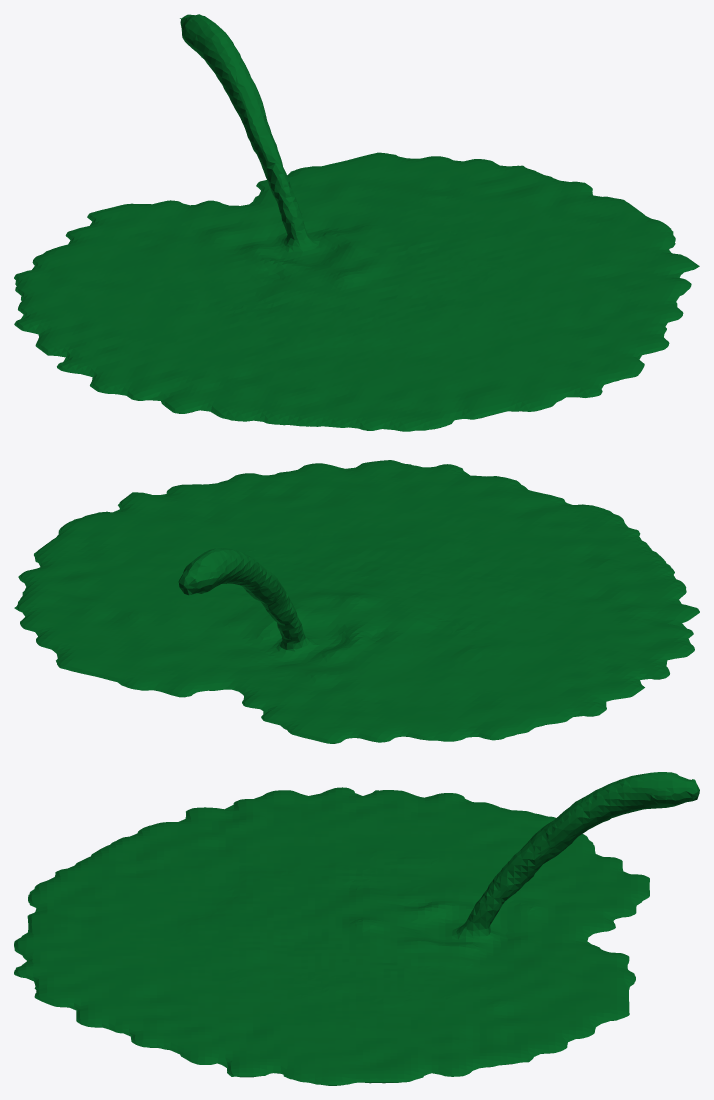
Rendered from fluid_39.fbx.
3 views of the same model, one above another, from view 1: azimuth 30°, elevation 25°; view 2: azimuth 150°, elevation 25°; view 3: azimuth 270°, elevation 25° (orthographic).
Parts seen in each view (by area): view 1: Cube; view 2: Cube; view 3: Cube.
Boxes of the visible parts, x1,y1,x2,y2 form: Cube: (14, 14, 699, 431); Cube: (14, 460, 699, 743); Cube: (14, 772, 699, 1085).
Size of the model in its own units: 673 by 177 by 655.
